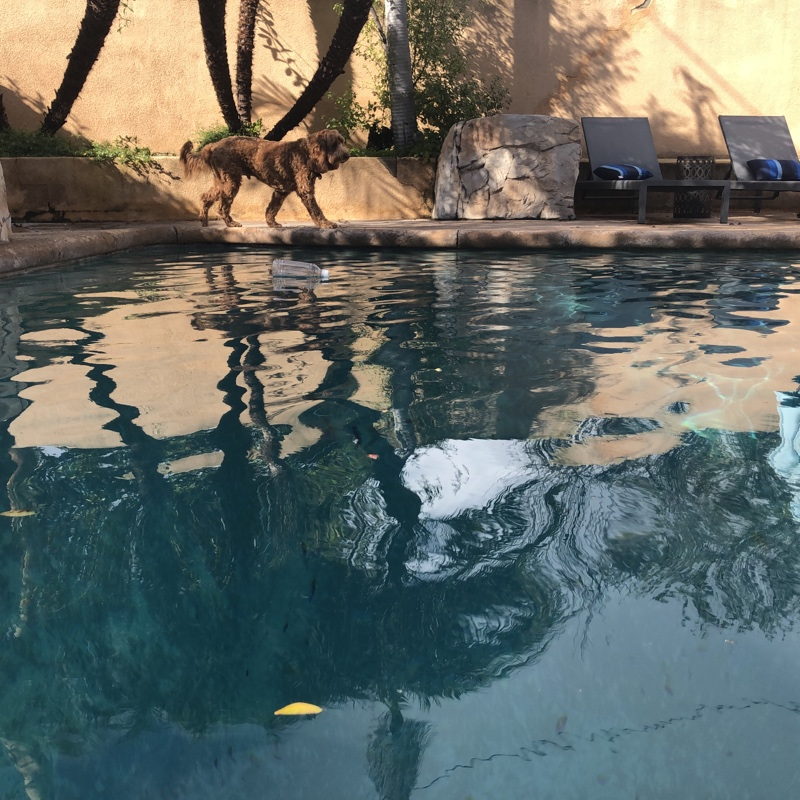Plastic Bottle: (266, 256, 330, 286)
